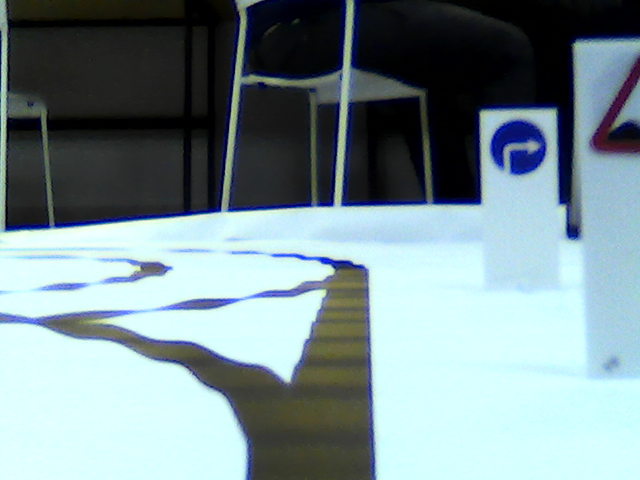Nerov: (585, 48, 640, 153)
Right: (491, 117, 548, 178)
